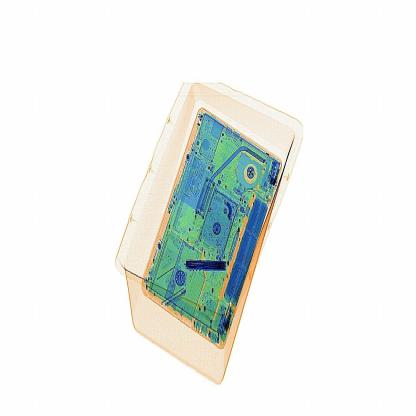scissors: (184, 256, 230, 276)
